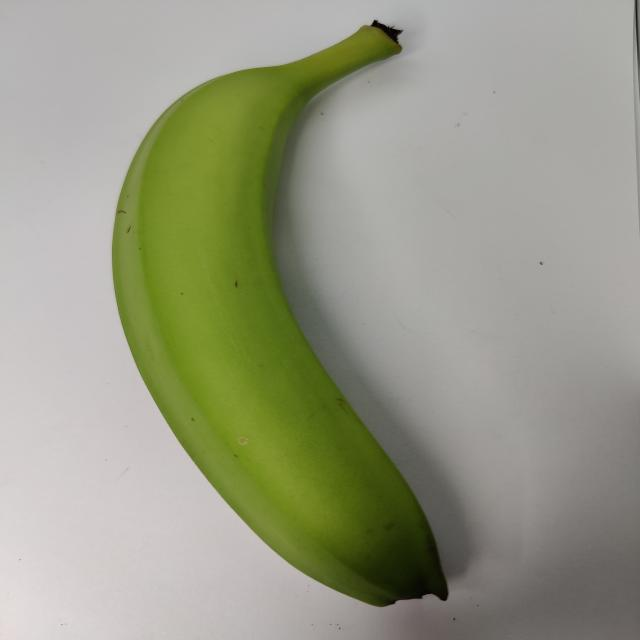raw: (81, 12, 544, 621)
